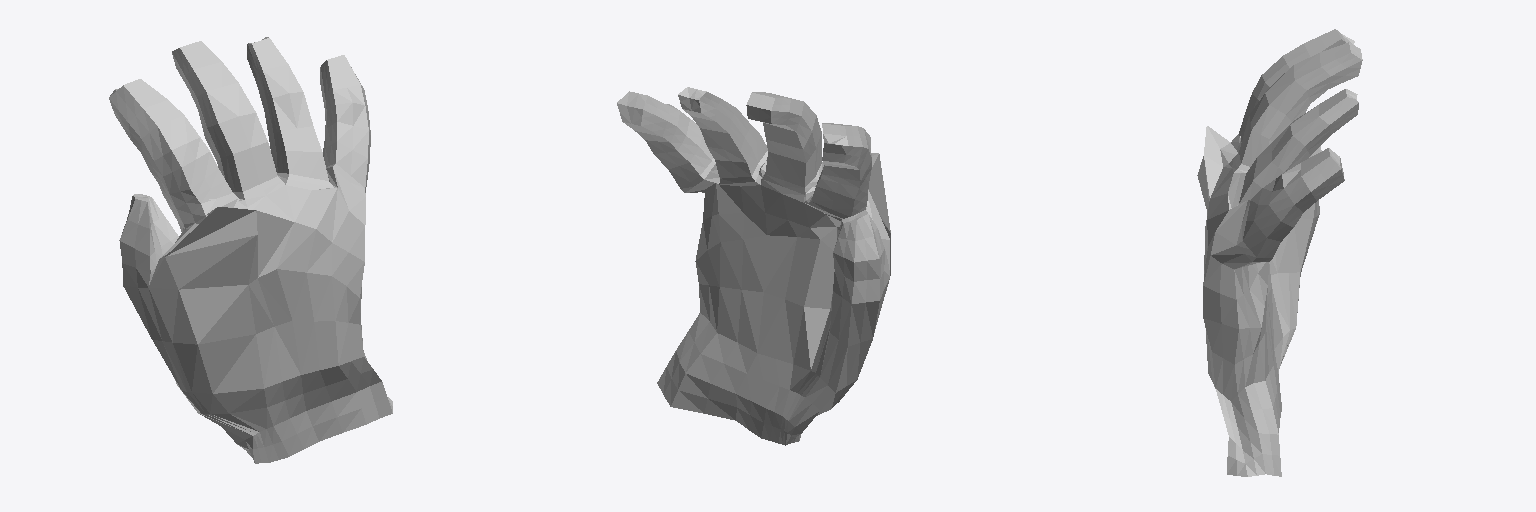
File: grip0023.obj
The picture shows the model from 3 angles: view 1: azimuth 30°, elevation 25°; view 2: azimuth 150°, elevation 25°; view 3: azimuth 270°, elevation 25°; orthographic projection.
Parts seen in each view (by area): view 1: Hand; view 2: Hand; view 3: Hand.
Part boxes in pixels (left/top/right/bottom): Hand: left=109, top=37, right=392, bottom=463; Hand: left=617, top=87, right=890, bottom=445; Hand: left=1197, top=29, right=1362, bottom=476.
Size of the model in its own units: 2.96 by 4.43 by 1.71.